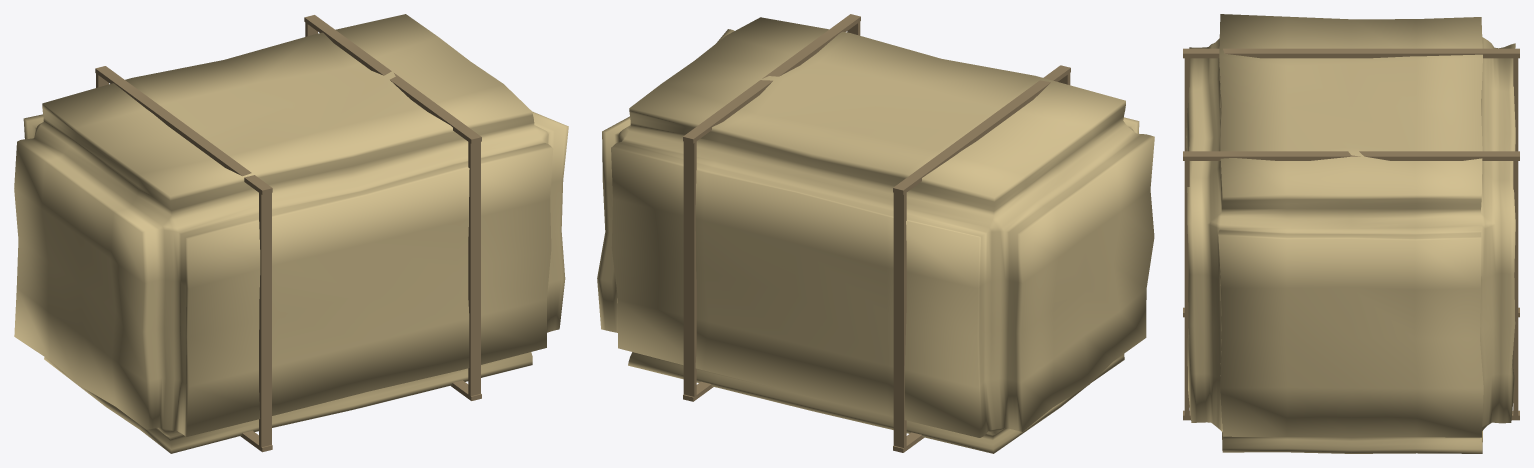
Rendered from hay.glb.
3 views of the same model, side by side, from view 1: azimuth 30°, elevation 25°; view 2: azimuth 150°, elevation 25°; view 3: azimuth 270°, elevation 25° (orthographic).
Visible parts, largest first — view 1: bale, twine; view 2: bale, twine; view 3: bale, twine.
Boxes of the visible parts, x1,y1,x2,y2 form: bale: [14, 14, 568, 453]; twine: [95, 15, 481, 452]; bale: [597, 17, 1154, 453]; twine: [683, 14, 1070, 452]; bale: [1186, 14, 1515, 453]; twine: [1183, 48, 1519, 420].
Size of the model in its own units: 1.23 by 0.7193 by 0.83.
